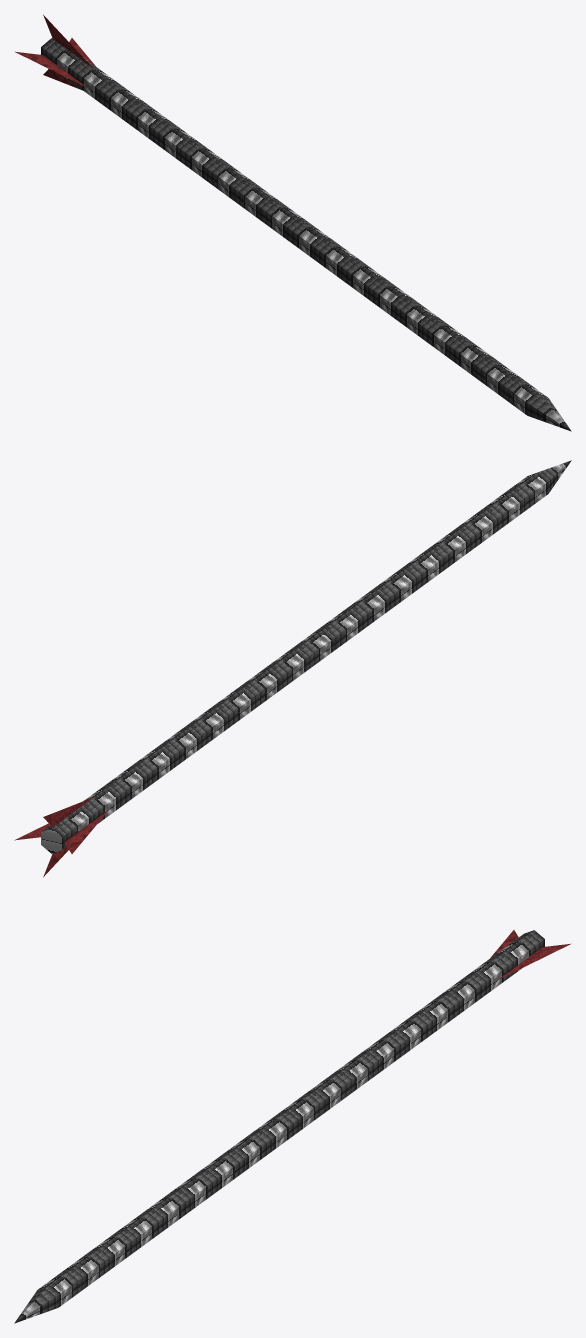
Rendered from arrowwood.obj.
The picture shows the model from 3 angles, top to bottom: view 1: azimuth 30°, elevation 25°; view 2: azimuth 150°, elevation 25°; view 3: azimuth 330°, elevation 25°; orthographic projection.
Parts seen in each view (by area): view 1: arrowwood; view 2: arrowwood; view 3: arrowwood.
Boxes of the visible parts, x1,y1,x2,y2 form: arrowwood: (14,14,571,431); arrowwood: (14,460,571,877); arrowwood: (14,930,571,1323).
Size of the model in its own units: 0.2363 by 0.2363 by 3.73.
